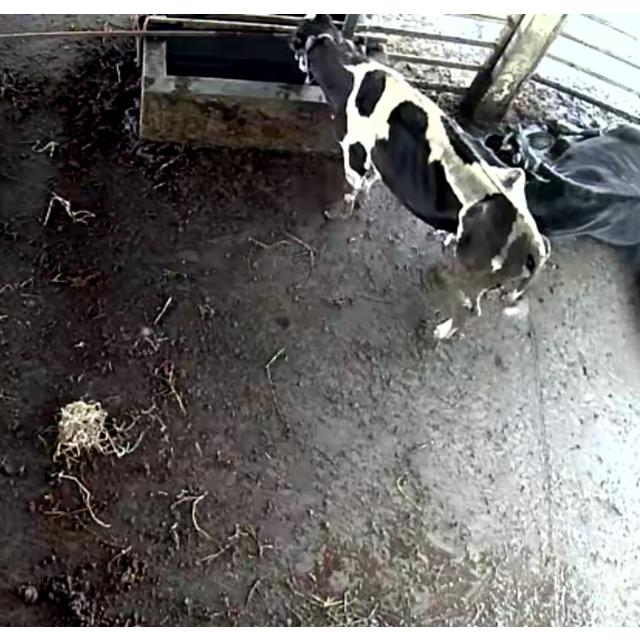drink: (256, 12, 404, 112)
